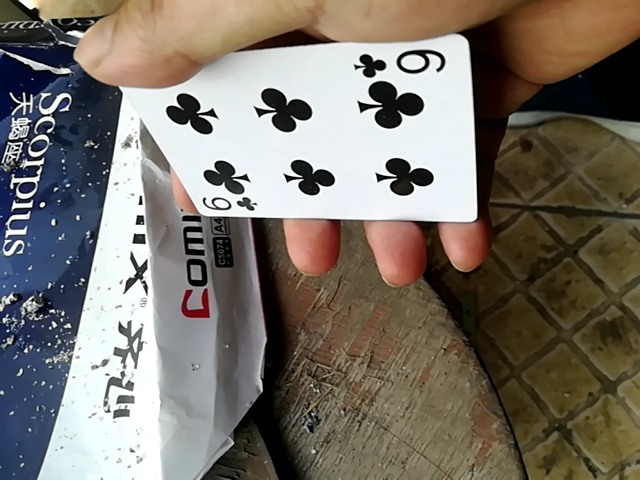mh 6: (107, 31, 477, 224)
